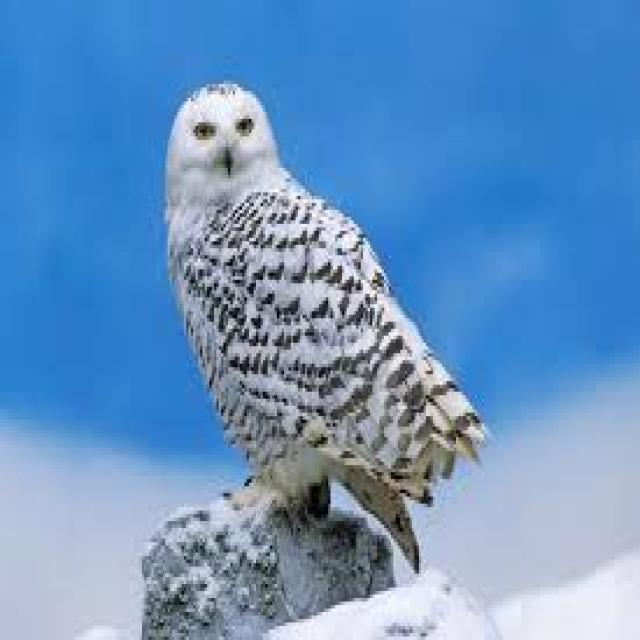snowy owl: (132, 67, 520, 556)
